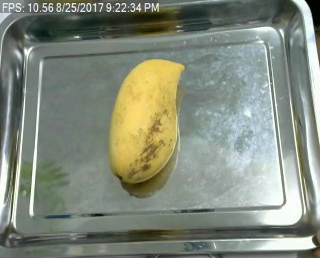Mango: (107, 57, 187, 184)
